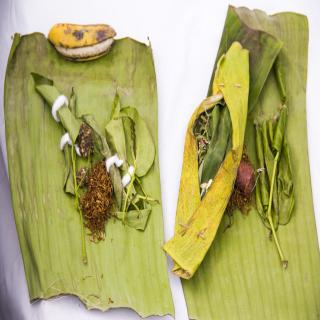Banana: (46, 22, 116, 62)
